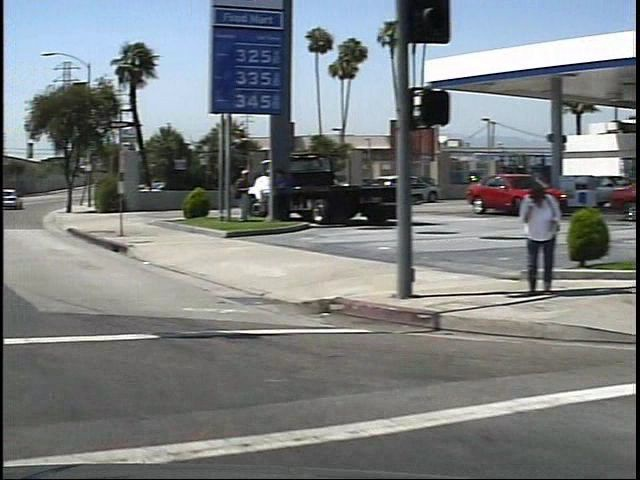person: (504, 178, 550, 300), (224, 168, 248, 229)
